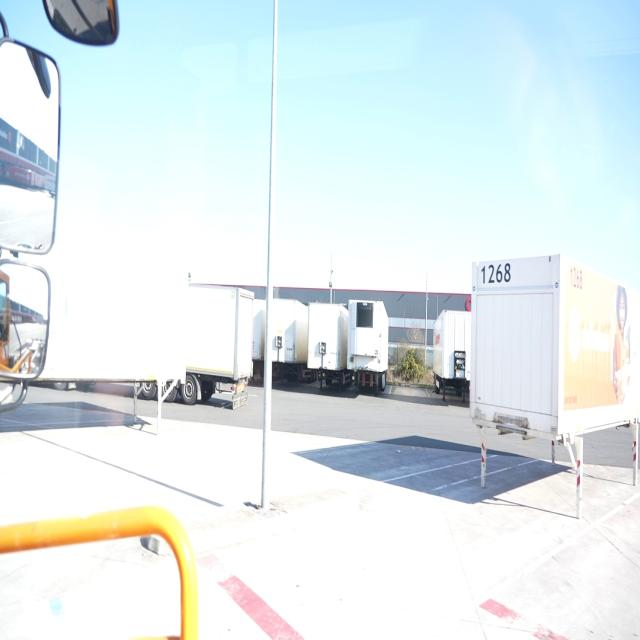Code: (476, 260, 514, 290), (565, 261, 588, 296)
